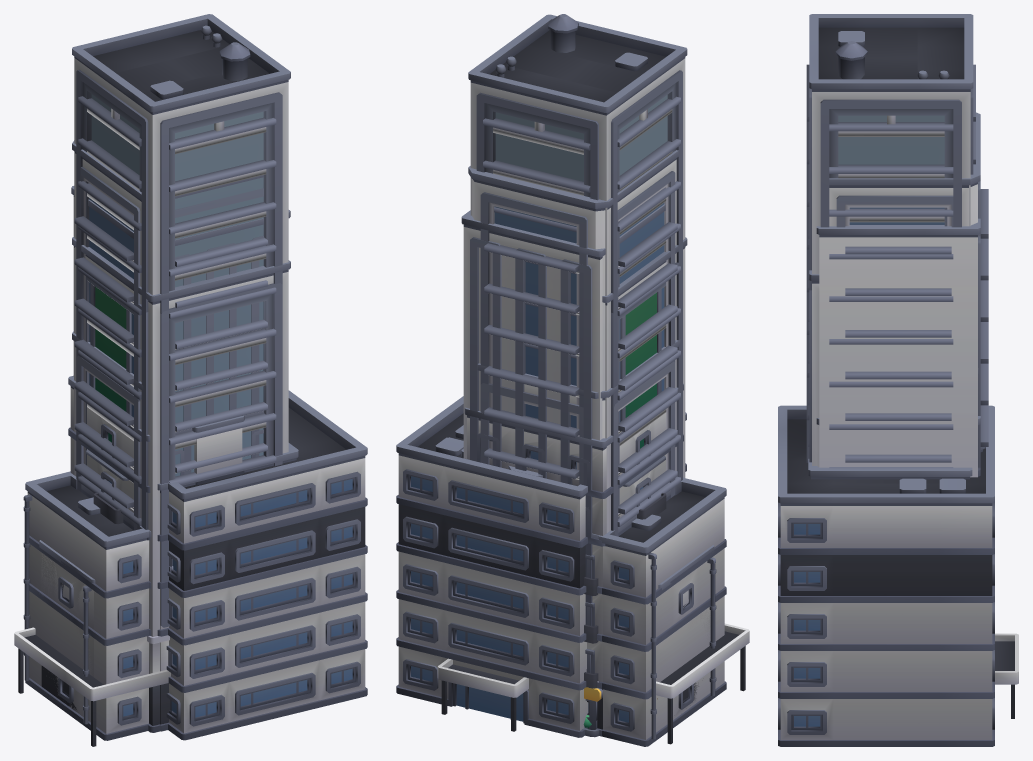
The model's file is k-commercial.glb.
3 renders of one model, left to right at view 1: azimuth 30°, elevation 25°; view 2: azimuth 150°, elevation 25°; view 3: azimuth 270°, elevation 25°, orthographic.
Visible parts, largest first — view 1: building-n, building-skyscraper-d, building-j, building-skyscraper-c, building-skyscraper-b, building-skyscraper-e, building-skyscraper-a, building-k, building-m, building-l; view 2: building-n, building-skyscraper-d, building-skyscraper-b, building-j, building-skyscraper-e, building-m, building-skyscraper-a, building-skyscraper-c, building-k, building-i; view 3: building-n, building-skyscraper-d, building-skyscraper-e, building-skyscraper-b, building-skyscraper-c, building-l, building-skyscraper-a.
Boxes of the visible parts, left/top/right/bottom form: building-n: left=14, top=390, right=367, bottom=746; building-skyscraper-d: left=72, top=14, right=290, bottom=731; building-j: left=23, top=471, right=149, bottom=740; building-skyscraper-c: left=72, top=237, right=290, bottom=732; building-skyscraper-b: left=72, top=140, right=267, bottom=518; building-skyscraper-e: left=71, top=186, right=290, bottom=480; building-skyscraper-a: left=72, top=331, right=267, bottom=530; building-k: left=39, top=540, right=95, bottom=728; building-m: left=68, top=375, right=263, bottom=629; building-l: left=93, top=443, right=298, bottom=731; building-n: left=396, top=396, right=749, bottom=744; building-skyscraper-d: left=468, top=14, right=687, bottom=530; building-skyscraper-b: left=468, top=150, right=678, bottom=730; building-j: left=583, top=478, right=726, bottom=746; building-skyscraper-e: left=461, top=204, right=665, bottom=729; building-m: left=464, top=383, right=683, bottom=736; building-skyscraper-a: left=477, top=339, right=680, bottom=729; building-skyscraper-c: left=525, top=237, right=687, bottom=532; building-k: left=657, top=545, right=716, bottom=735; building-i: left=584, top=477, right=684, bottom=729; building-n: left=778, top=405, right=1018, bottom=746; building-skyscraper-d: left=806, top=14, right=975, bottom=467; building-skyscraper-e: left=816, top=218, right=980, bottom=477; building-skyscraper-b: left=808, top=112, right=988, bottom=462; building-skyscraper-c: left=806, top=270, right=953, bottom=468; building-l: left=808, top=447, right=985, bottom=479; building-skyscraper-a: left=808, top=368, right=988, bottom=457.
Bounding box in the file's own units: 2.32 × 5.47 × 1.82.
1 material, 1 textured.
